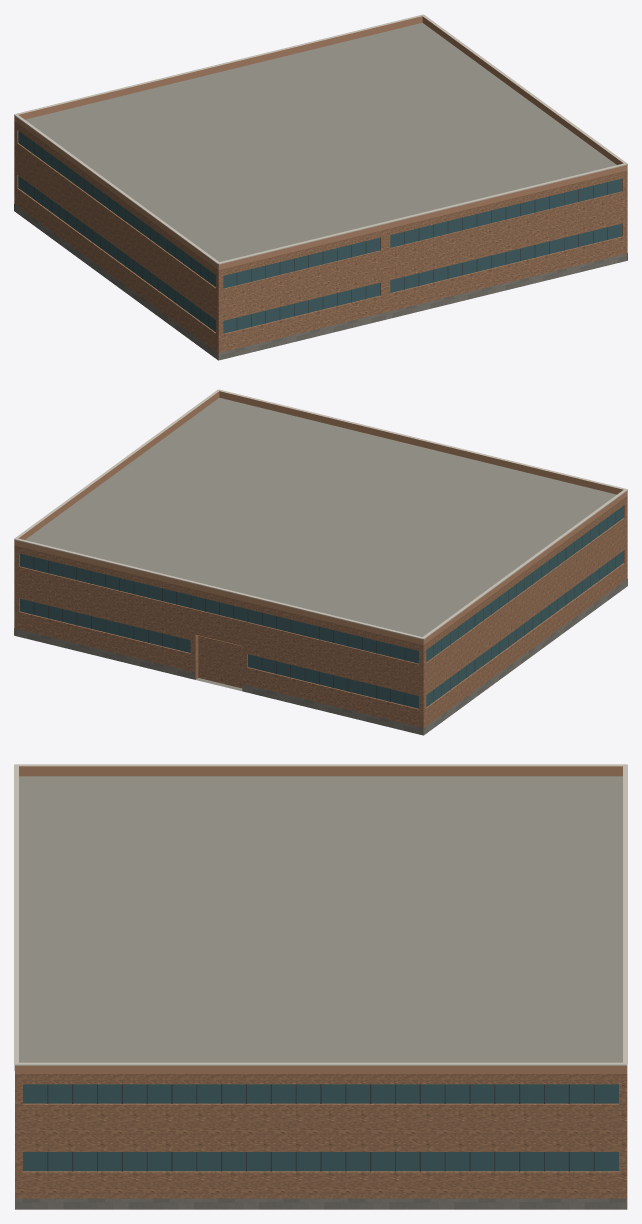
The picture shows the model from 3 angles, top to bottom: view 1: azimuth 30°, elevation 25°; view 2: azimuth 150°, elevation 25°; view 3: azimuth 270°, elevation 25°; orthographic projection. The views are drawn at different scales.
Parts seen in each view (by area): view 1: labComplex__roof, labComplex__wall, labComplex__glass, labComplex__parapet, labComplex__base, labComplex__trim, labComplex__frame; view 2: labComplex__roof, labComplex__wall, labComplex__glass, labComplex__parapet, labComplex__base, labComplex__trim, labComplex__frame; view 3: labComplex__roof, labComplex__wall, labComplex__glass, labComplex__parapet, labComplex__base, labComplex__trim, labComplex__frame.
Part boxes in pixels (left/top/right/bottom): labComplex__roof: left=25, top=22, right=616, bottom=261; labComplex__wall: left=14, top=121, right=627, bottom=359; labComplex__glass: left=18, top=131, right=621, bottom=333; labComplex__parapet: left=14, top=16, right=627, bottom=270; labComplex__base: left=14, top=204, right=627, bottom=360; labComplex__trim: left=14, top=14, right=627, bottom=264; labComplex__frame: left=26, top=137, right=607, bottom=330; labComplex__roof: left=25, top=397, right=616, bottom=691; labComplex__wall: left=14, top=496, right=627, bottom=735; labComplex__glass: left=20, top=506, right=623, bottom=708; labComplex__parapet: left=14, top=391, right=627, bottom=645; labComplex__base: left=14, top=579, right=627, bottom=735; labComplex__trim: left=14, top=389, right=627, bottom=639; labComplex__frame: left=33, top=511, right=615, bottom=705; labComplex__roof: left=19, top=776, right=622, bottom=1062; labComplex__wall: left=14, top=1064, right=627, bottom=1198; labComplex__glass: left=23, top=1084, right=618, bottom=1171; labComplex__parapet: left=15, top=766, right=627, bottom=1073; labComplex__base: left=15, top=1198, right=627, bottom=1209; labComplex__trim: left=14, top=764, right=627, bottom=1065; labComplex__frame: left=47, top=1084, right=594, bottom=1171.
Bounding box in the file's own units: 52.36 × 11.82 × 45.25.
8 materials, 2 textured.
